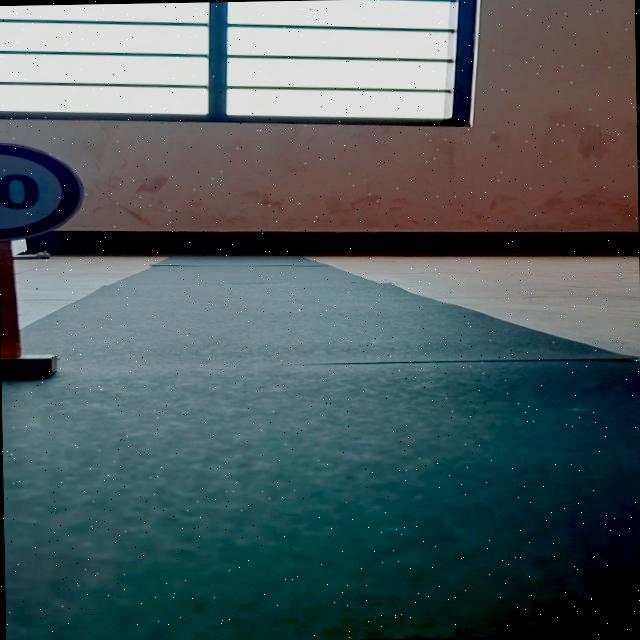Reject: (0, 135, 87, 238)
